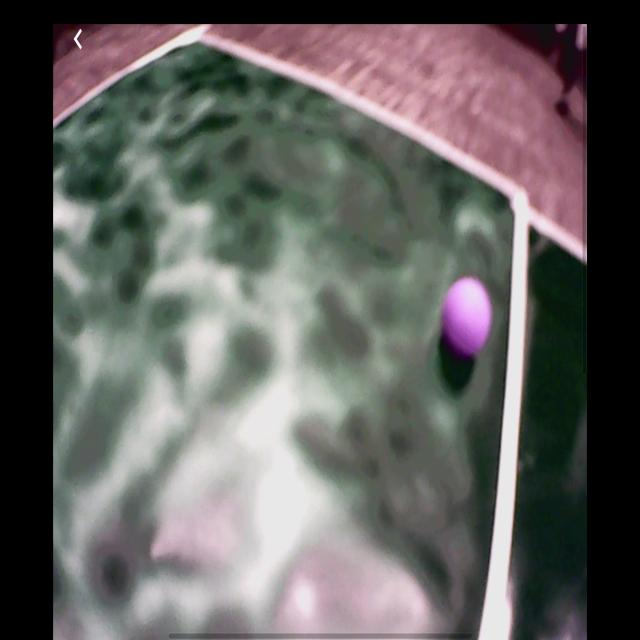ball: (442, 278, 492, 359)
